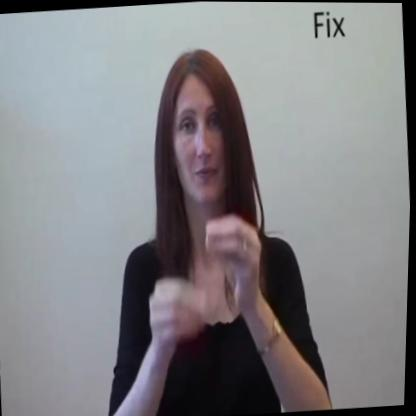Fix: (127, 179, 275, 382)
